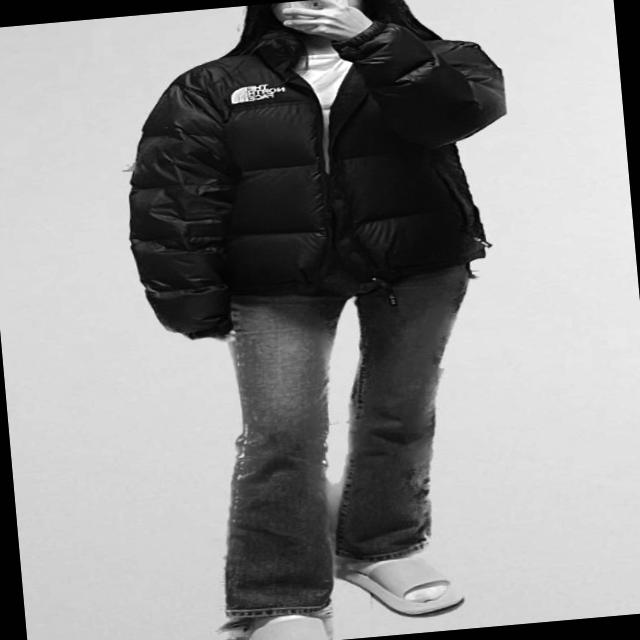denimpants: (192, 246, 500, 620)
padding: (111, 9, 526, 346)
